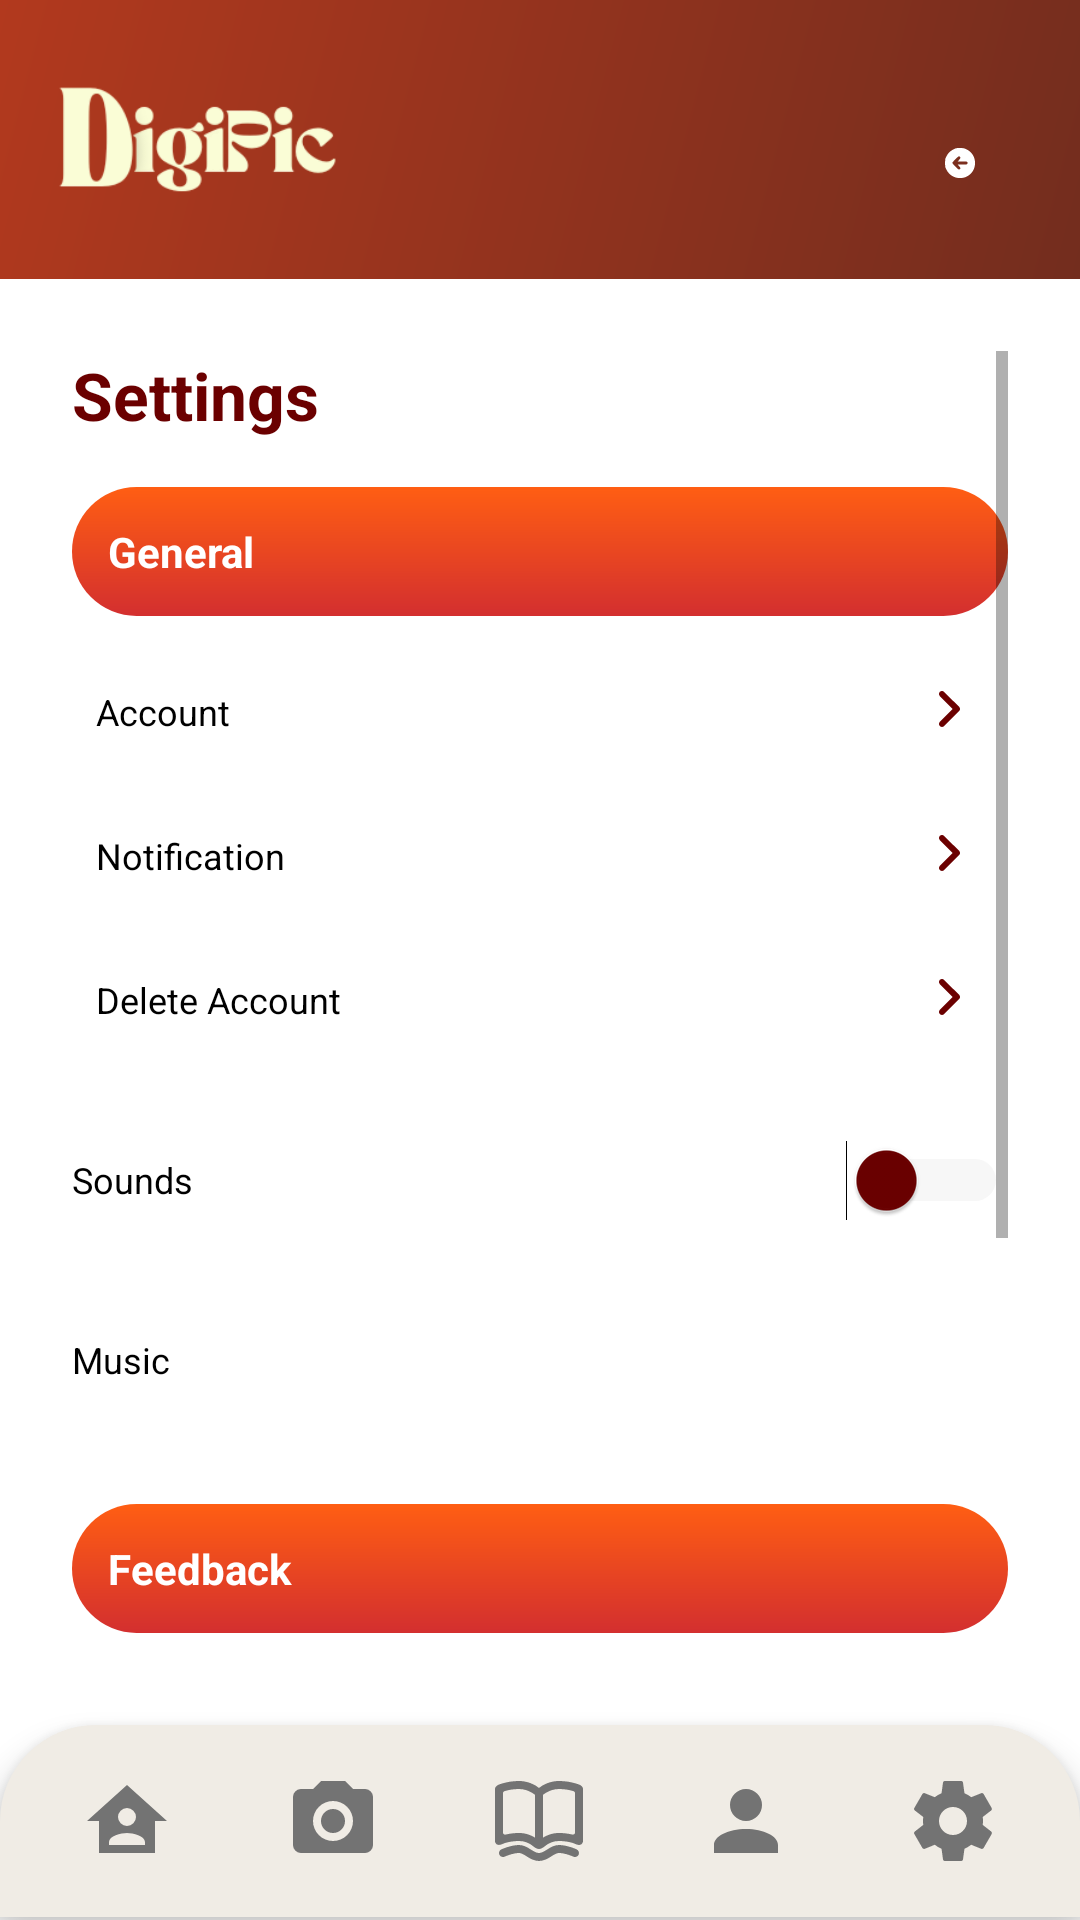

Icon bounding boxes for this 1080px×1920px phone screenshot, format (x1, y1, x2, y2):
Home: (87, 1785, 167, 1853)
Profile: (714, 1789, 778, 1853)
Settings: (914, 1781, 992, 1861)
